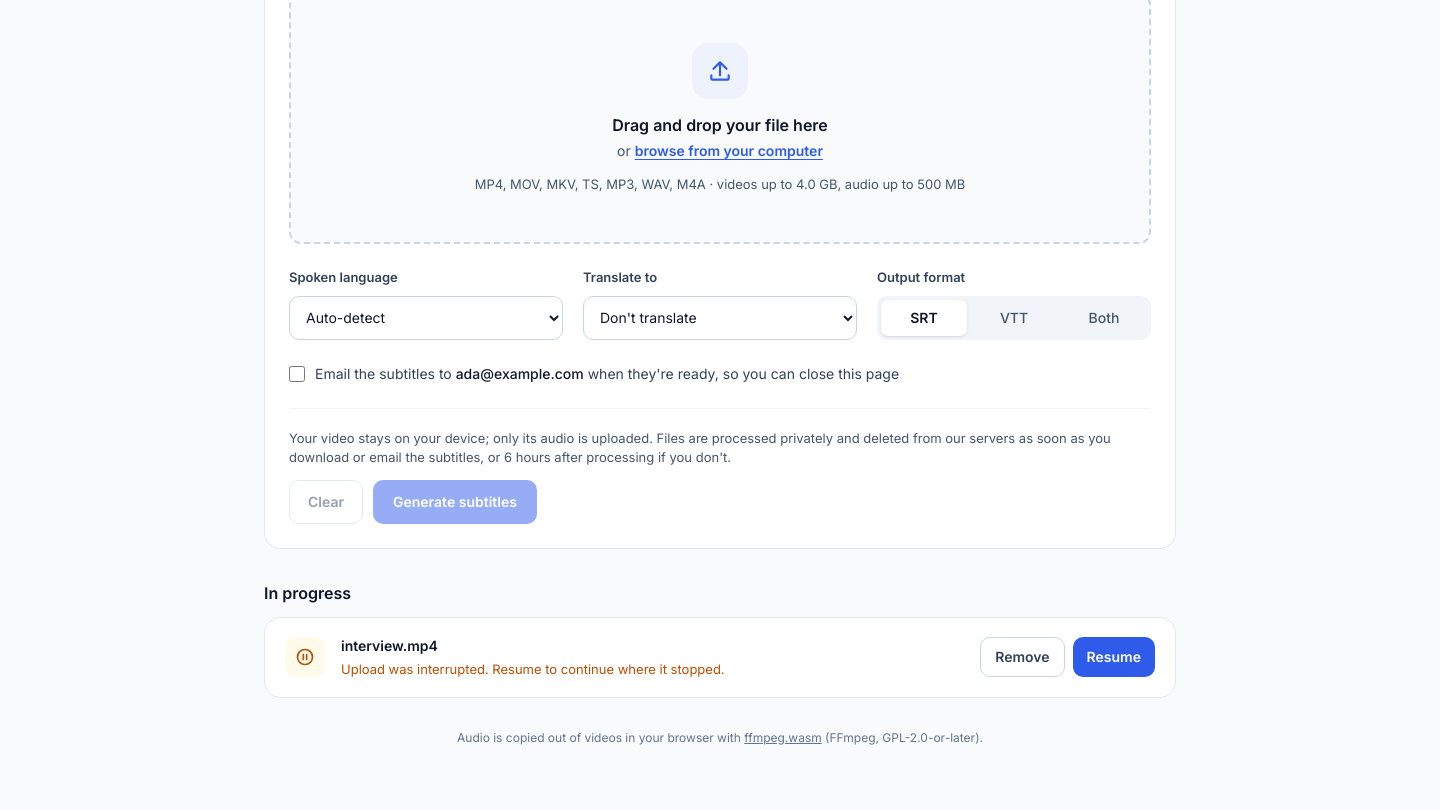
Scenario: deleting an upload › asks for confirmation before deleting anything
(page scrolled)
Click the button "Remove": coordinates (1022, 657) x1=980 y1=637 x2=1065 y2=677
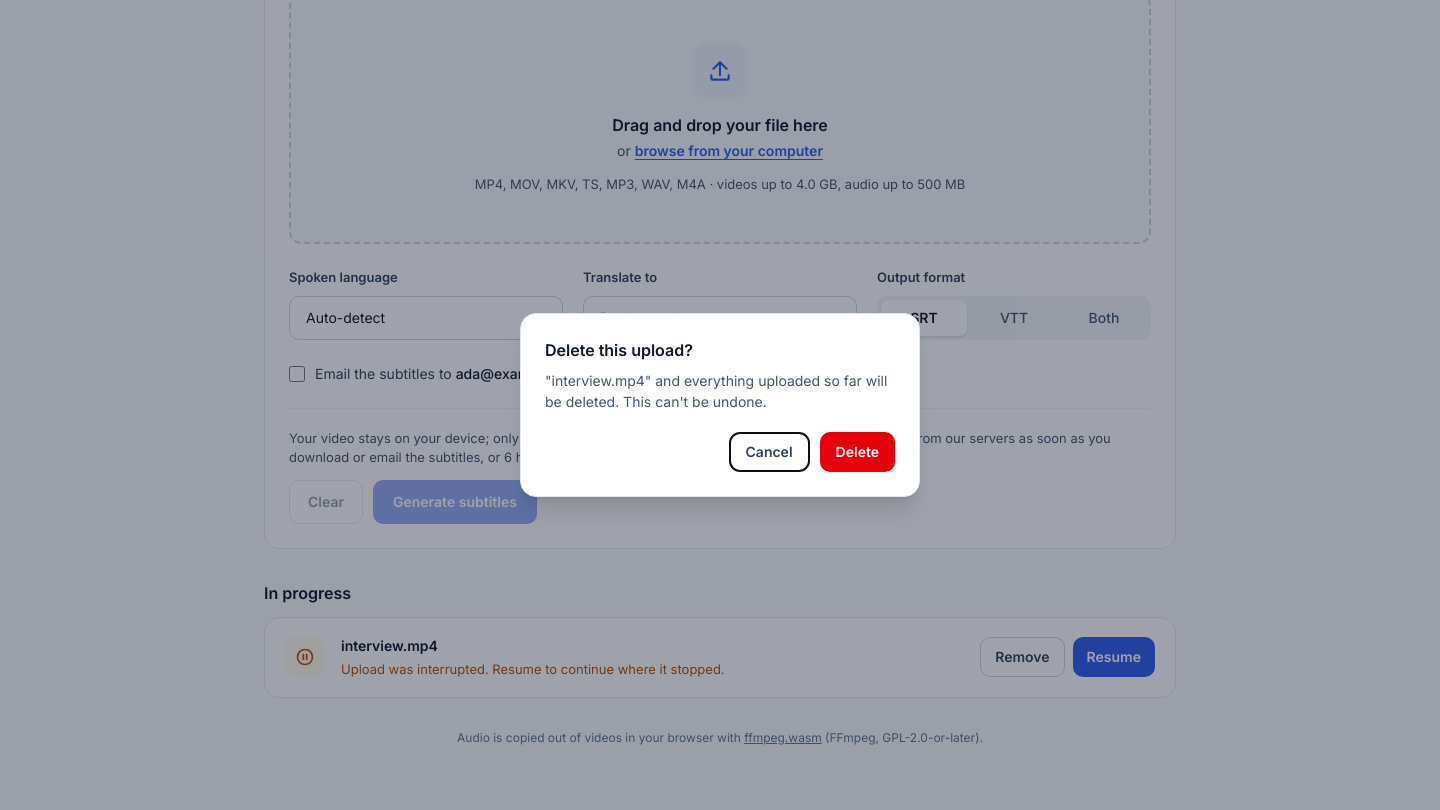
Check: the dialog shows "Delete this upload?", box x1=545 y1=340 x2=693 y2=360
Check: the dialog shows "\"interview.mp4\" and everything uploaded so far will be deleted. This can't be undone.", box x1=545 y1=372 x2=887 y2=410
